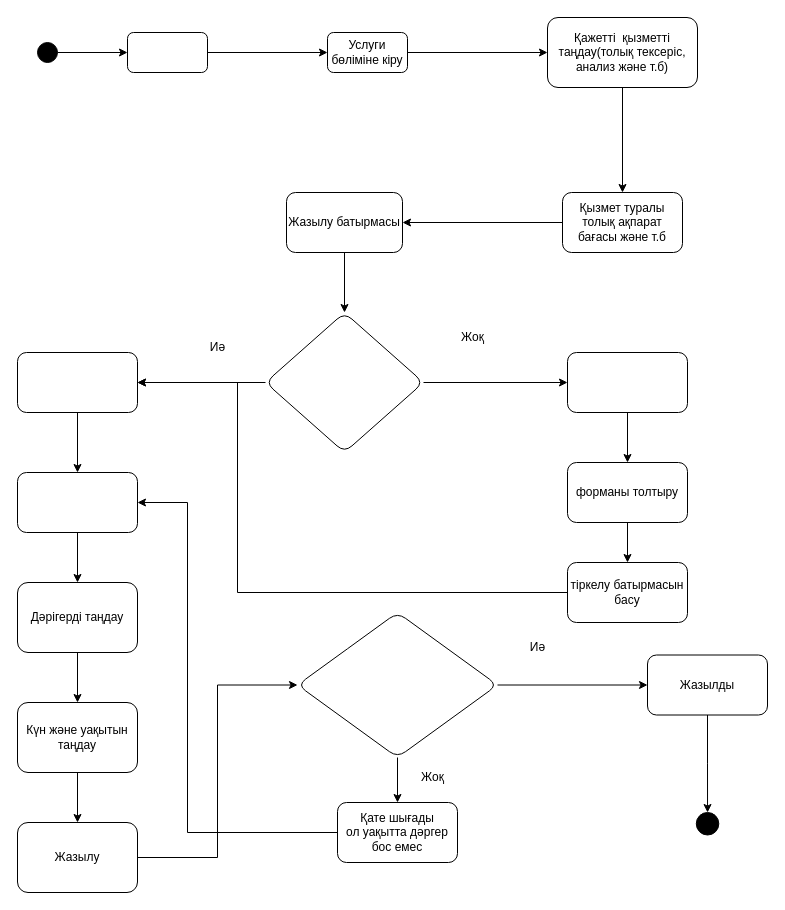
This 785x910 diagram has some shape labels left out. Here are the shapes that lost their labels. From the top down, the box of each, then its label:
(126, 32, 208, 72): Жүйеге кіру
(16, 352, 138, 412): Кіру
(264, 312, 424, 452): Жүйеге тіркелген бе?
(566, 352, 688, 412): Тіркелу
(16, 472, 138, 532): Жазылу формасы
(296, 612, 498, 758): Таңдаған уақытта дәрігер бос па?
